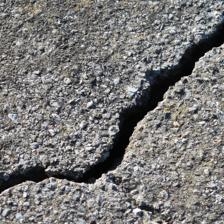Crack: (105, 25, 220, 171), (2, 158, 98, 203)
